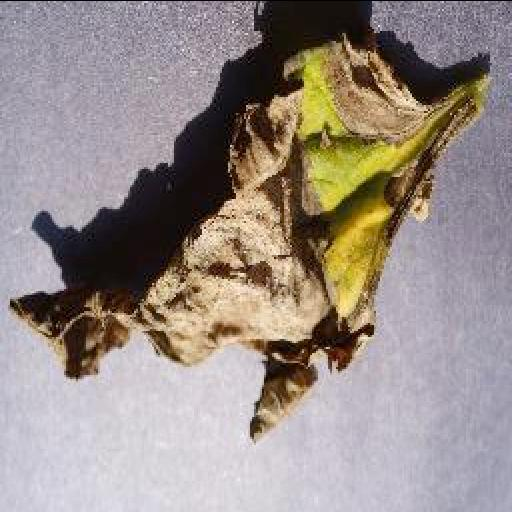disease_tomato: (0, 32, 494, 438)
